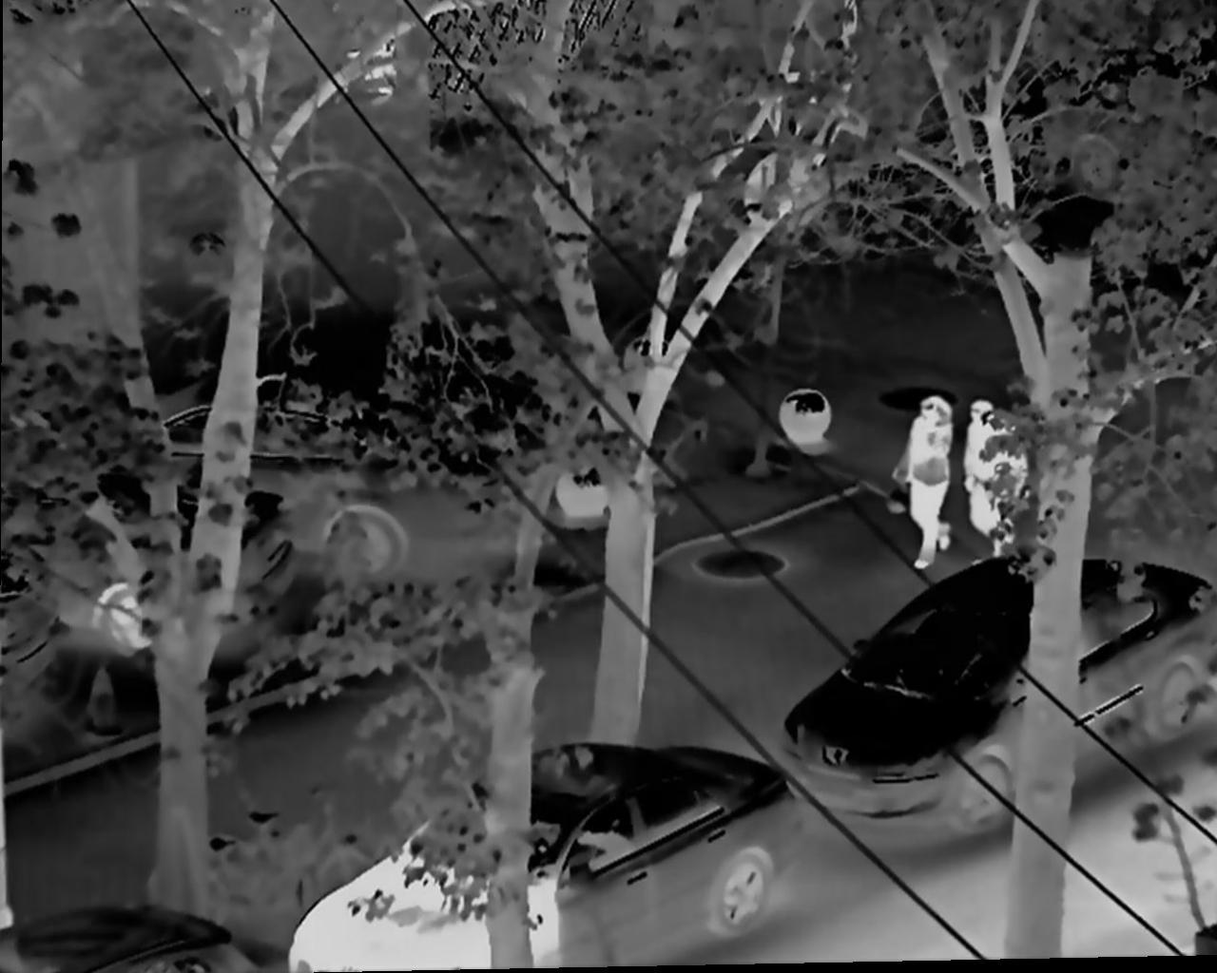person: (885, 391, 955, 567), (964, 398, 1030, 566)
